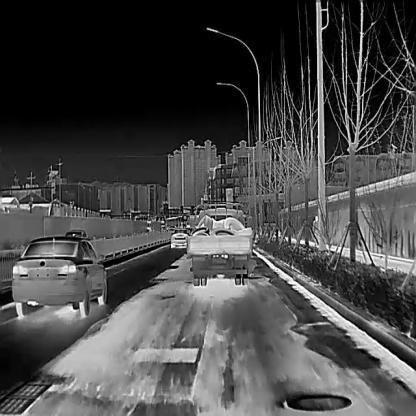car: (10, 233, 106, 318), (184, 198, 255, 286), (170, 226, 189, 249), (64, 227, 86, 239)
